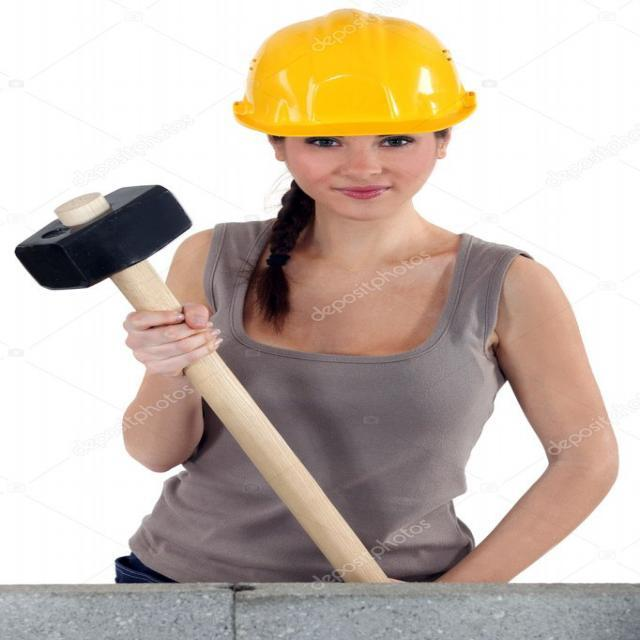hammer: (3, 181, 407, 585)
